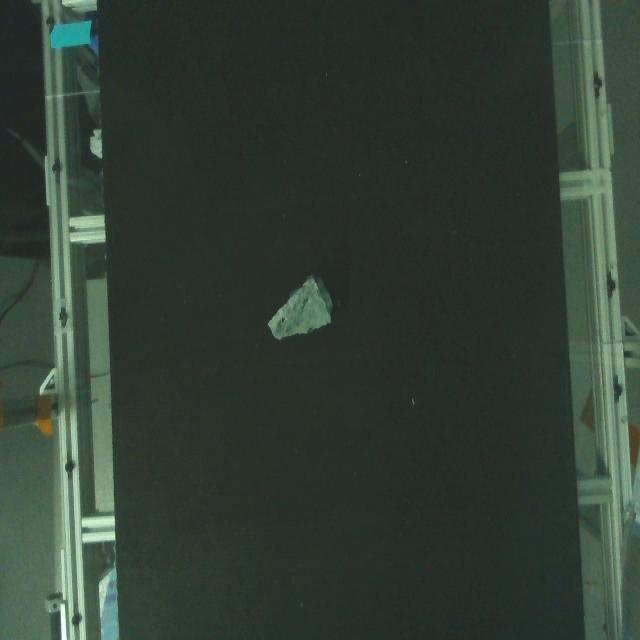non-paper: (250, 270, 351, 351)
